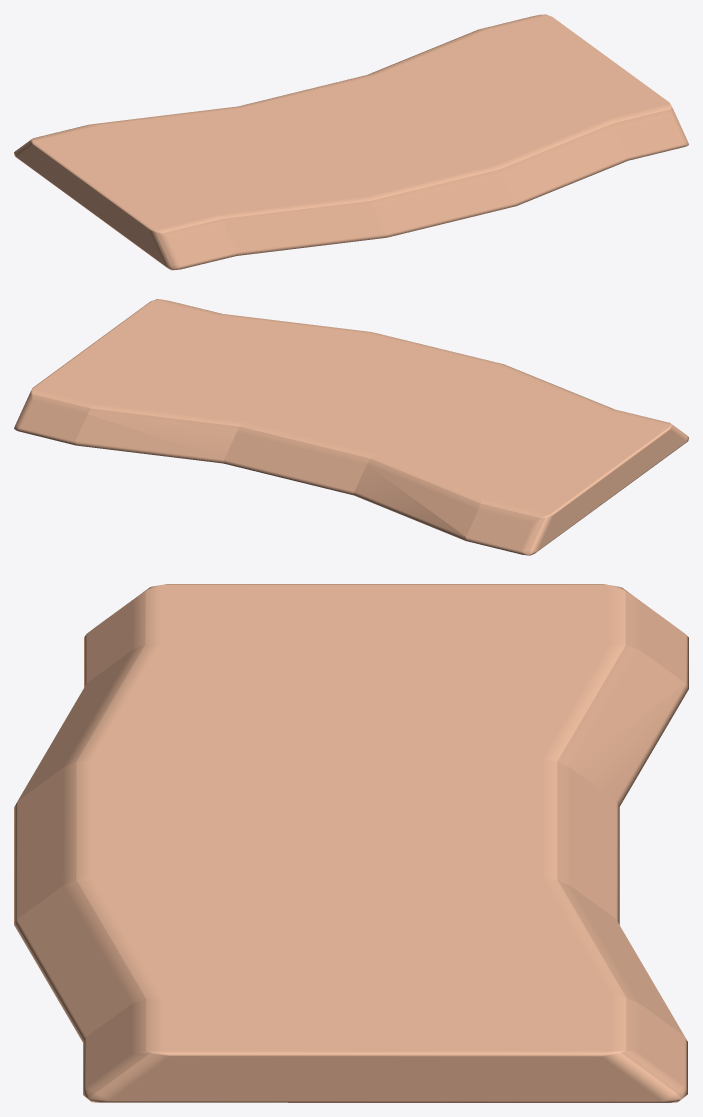
File: crops_dirtRow.glb
3 views of the same model, one above another, from view 1: azimuth 30°, elevation 25°; view 2: azimuth 150°, elevation 25°; view 3: azimuth 270°, elevation 25° (orthographic). The views are drawn at different scales.
Parts seen in each view (by area): view 1: crops_dirtRow; view 2: crops_dirtRow; view 3: crops_dirtRow.
Part boxes in pixels (x1,y1,x2,y2): crops_dirtRow: [14, 14, 688, 270]; crops_dirtRow: [14, 299, 688, 555]; crops_dirtRow: [14, 584, 688, 1102].
Bounding box in the file's own units: 1 × 0.05 × 0.6052.
